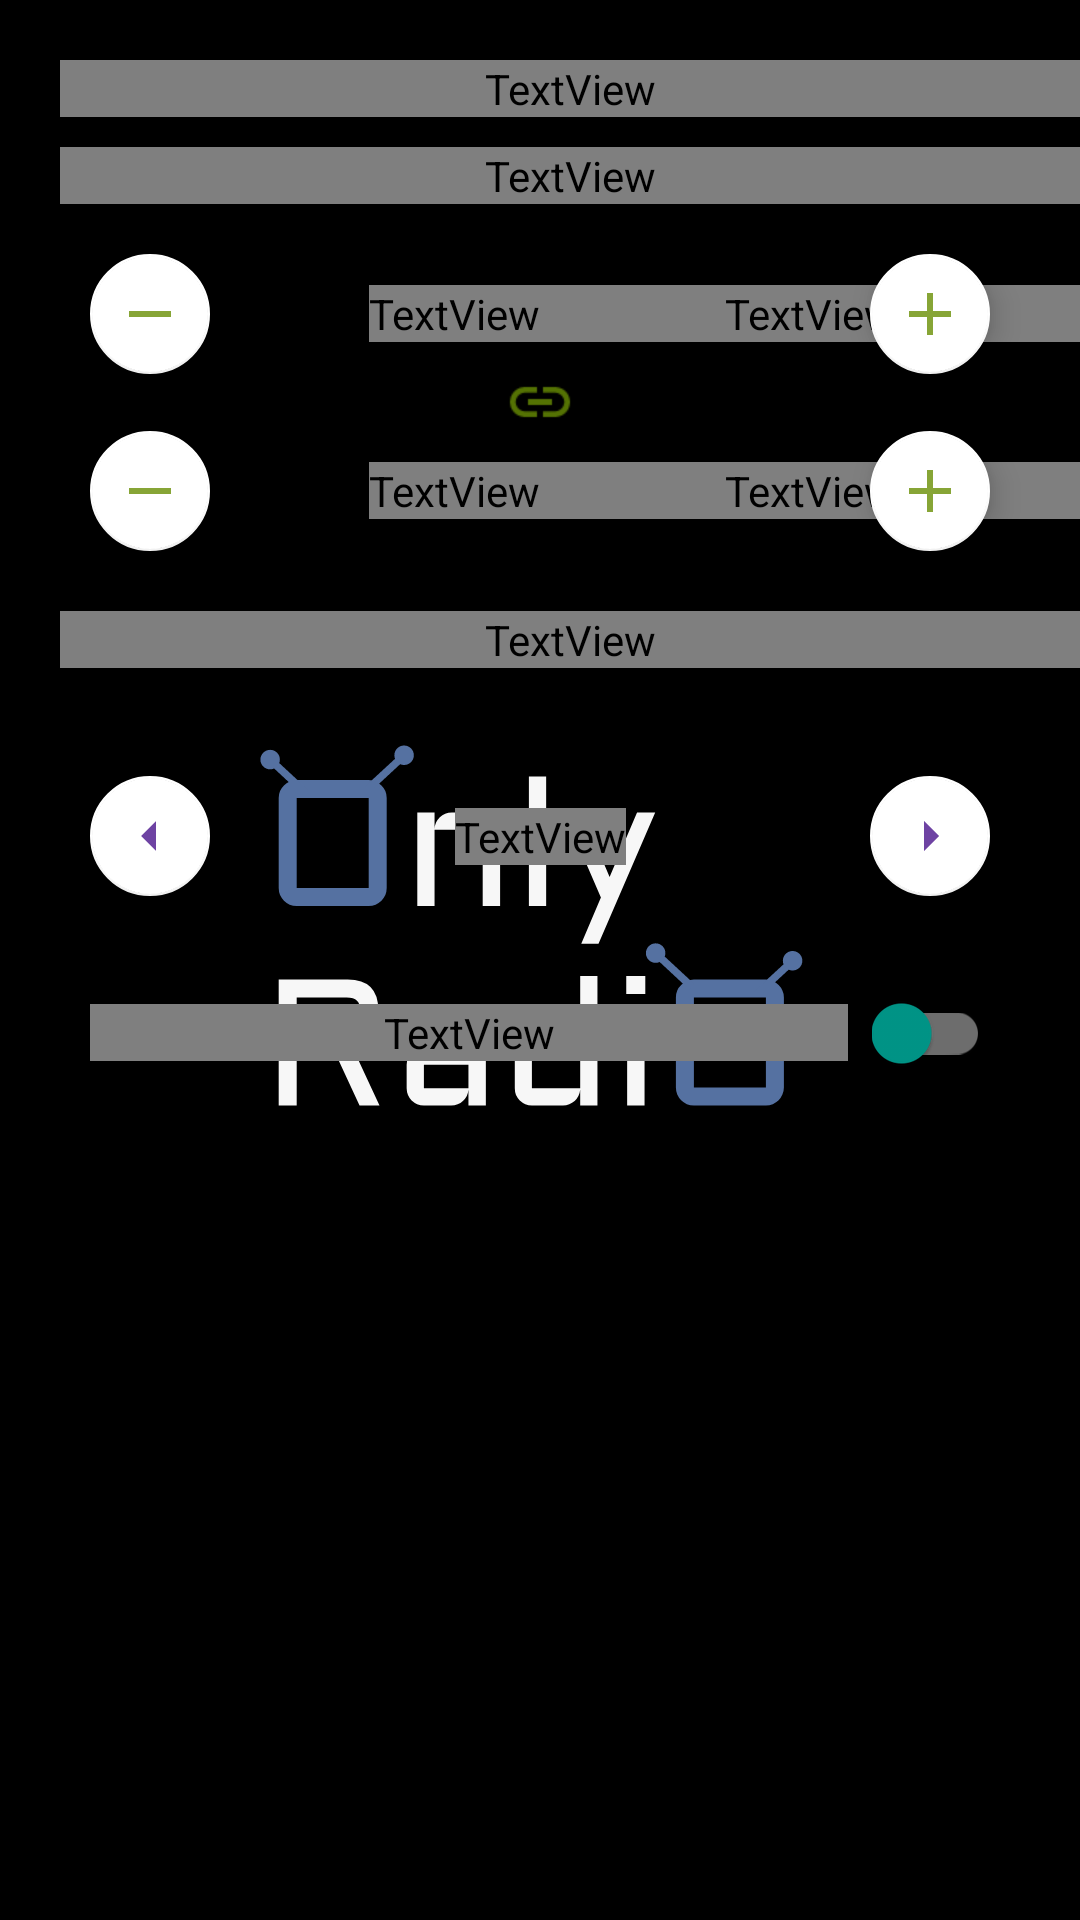

Icons on this 1080*1920 Android screen, each with the point to tap as (x=x, y=y):
arrow left: (x=150, y=836)
arrow right: (x=930, y=836)
link: (x=540, y=402)
playback speed minus: (x=150, y=314), (x=150, y=491)
playback speed plus: (x=930, y=314), (x=930, y=491)
